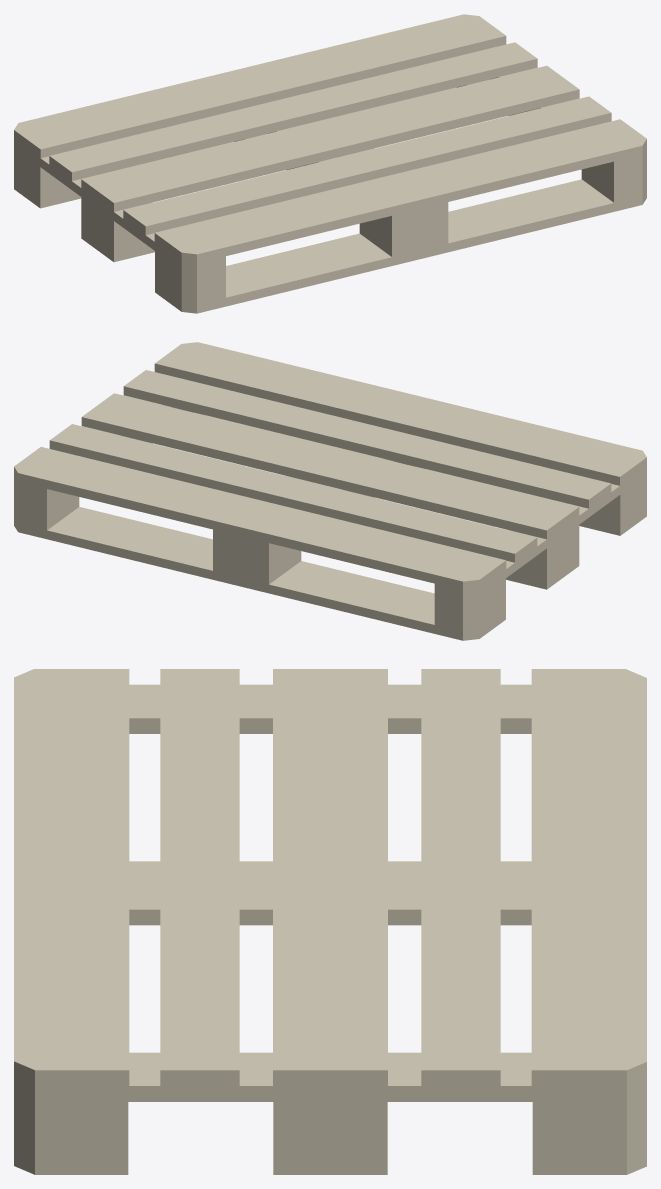
File: Pallet.glb
3 renders of one model, top to bottom at view 1: azimuth 30°, elevation 25°; view 2: azimuth 150°, elevation 25°; view 3: azimuth 270°, elevation 25°, orthographic. The views are drawn at different scales.
Parts seen in each view (by area): view 1: Mesh_Mesh_head_geo.001_lambert2SG.001; view 2: Mesh_Mesh_head_geo.001_lambert2SG.001; view 3: Mesh_Mesh_head_geo.001_lambert2SG.001.
Boxes of the visible parts, x1=… form: Mesh_Mesh_head_geo.001_lambert2SG.001: x1=14, y1=14, x2=646, y2=313; Mesh_Mesh_head_geo.001_lambert2SG.001: x1=14, y1=342, x2=646, y2=640; Mesh_Mesh_head_geo.001_lambert2SG.001: x1=14, y1=669, x2=646, y2=1174.
Bounding box in the file's own units: 0.12 × 0.0146 × 0.08.
